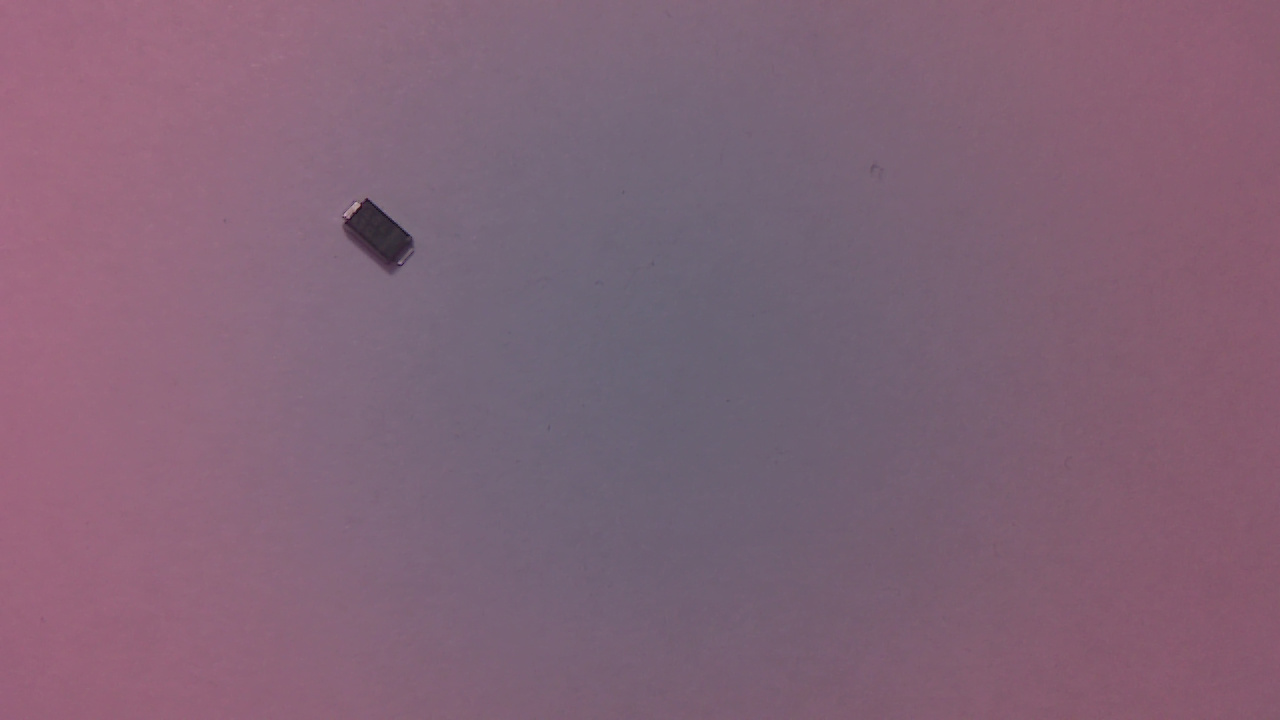Diode: (344, 195, 422, 282)
